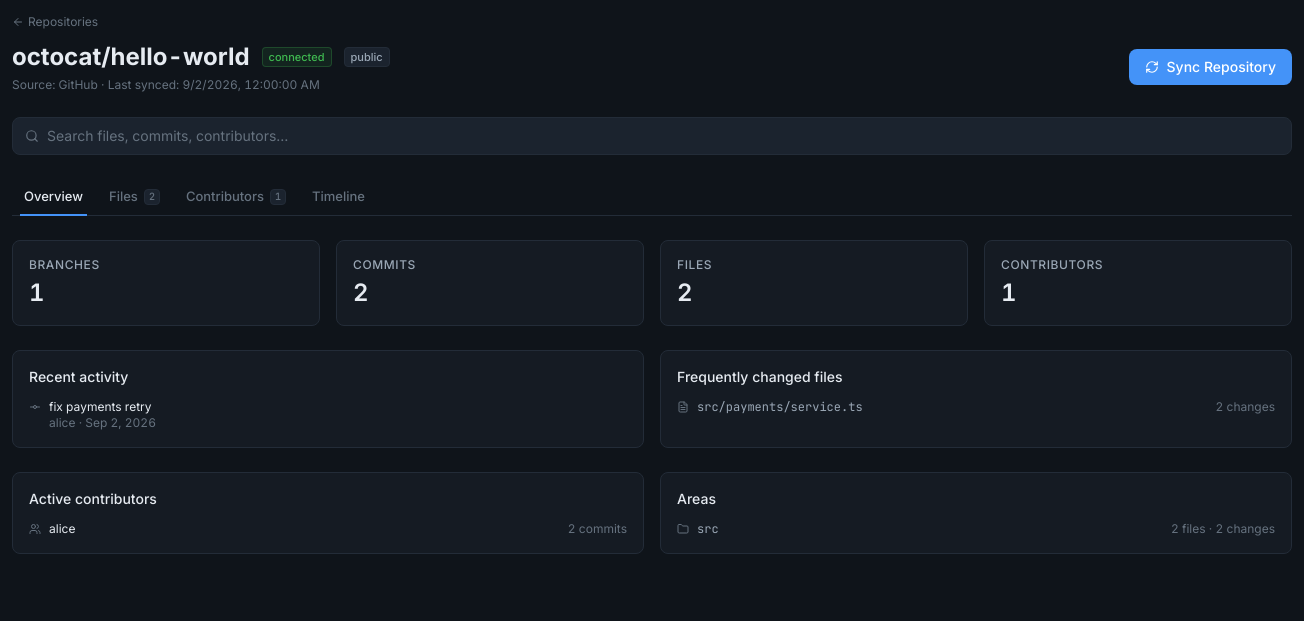
Test: RepositoryDetailPage memory workspace › surfaces sync failures with backend messages
What coordinates should you click on to do the following:
click the button "Sync Repository"
I would click on:
 (1210, 67)
Its box is [1129,49,1292,85].
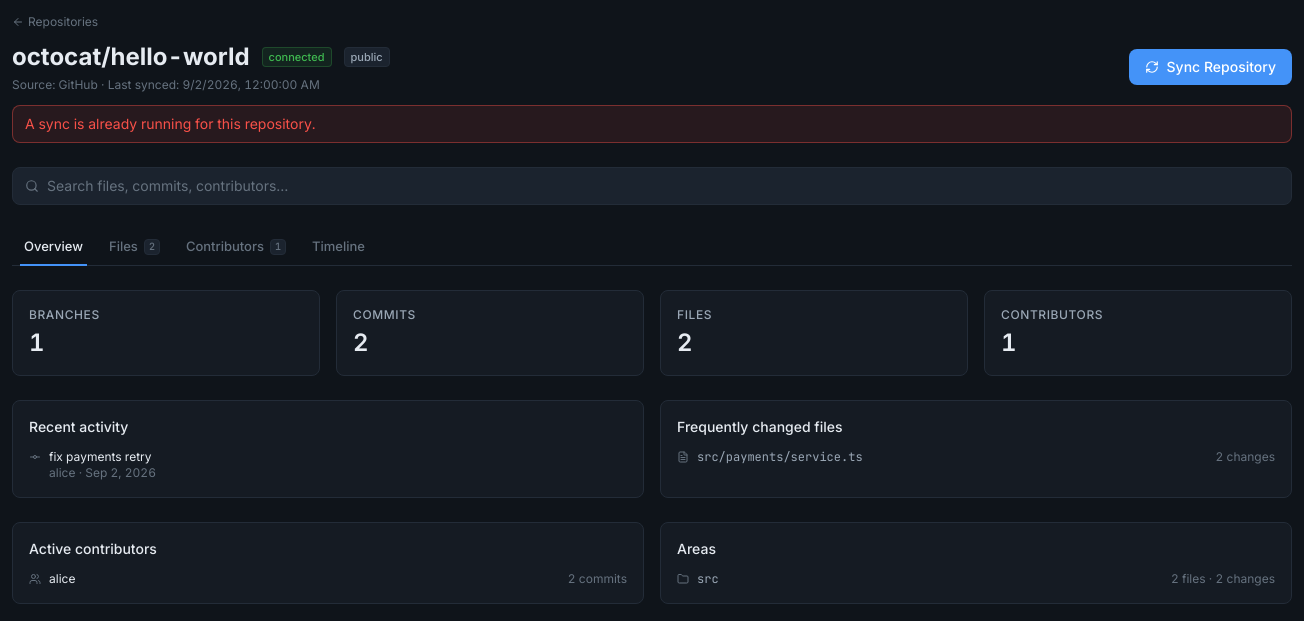
Result: the text "A sync is already running for this repository." is shown at [12,105,1292,143]
